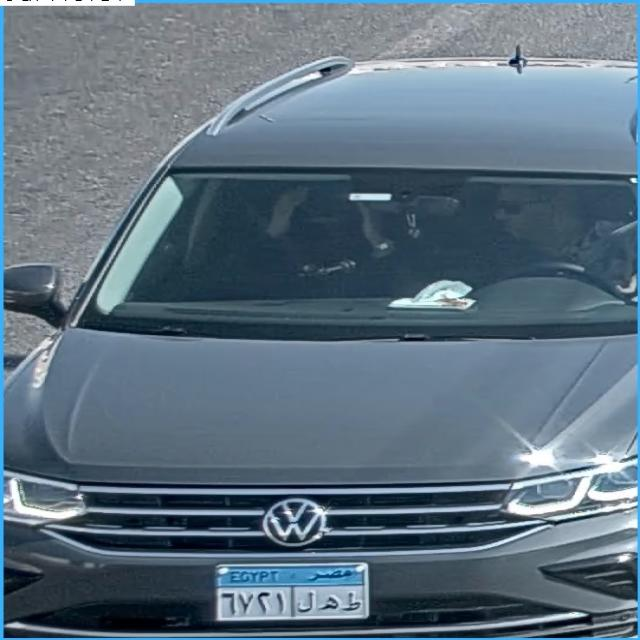windshield: (96, 168, 640, 326)
